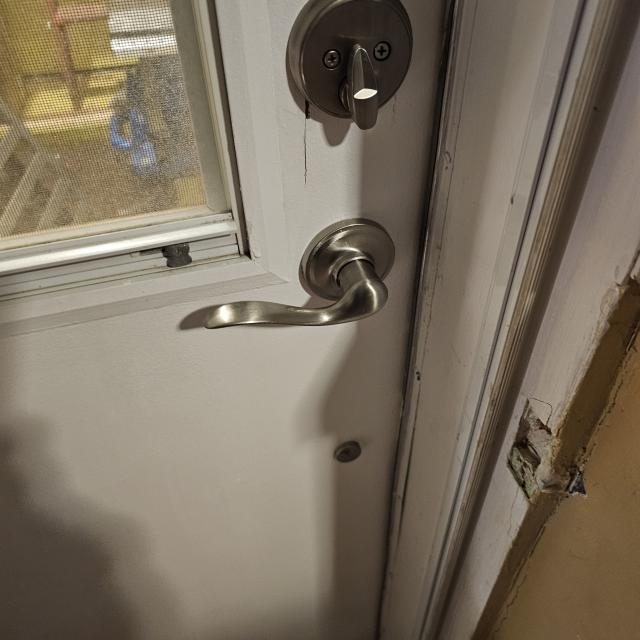door-handle: (204, 219, 395, 329)
